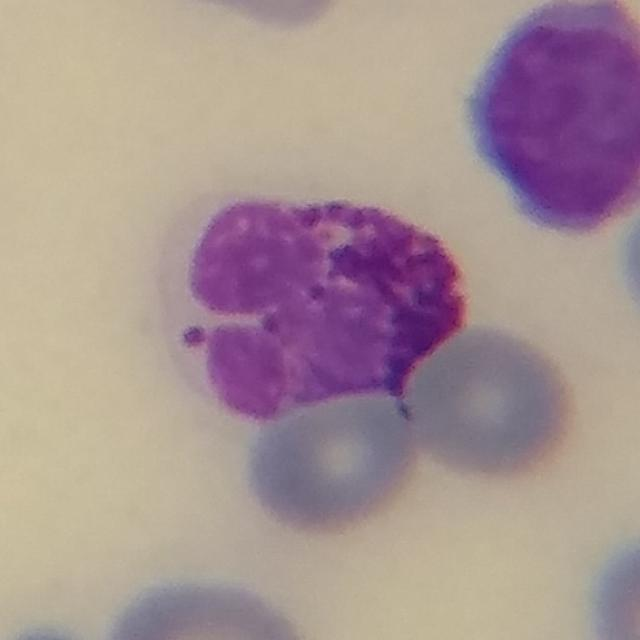baso: (144, 164, 482, 435)
